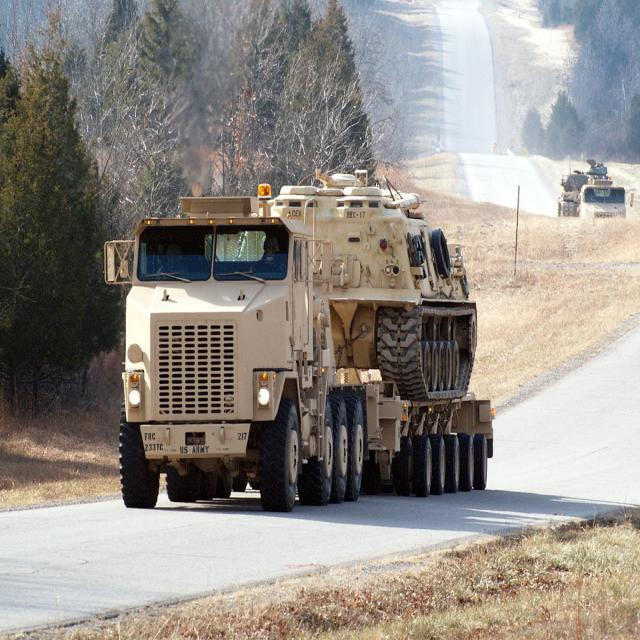truck: (105, 170, 495, 510)
